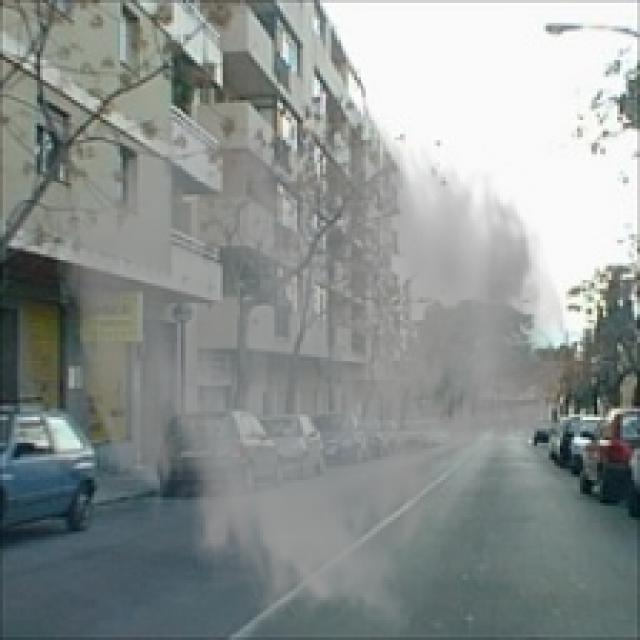Smoke: (52, 100, 574, 637)
